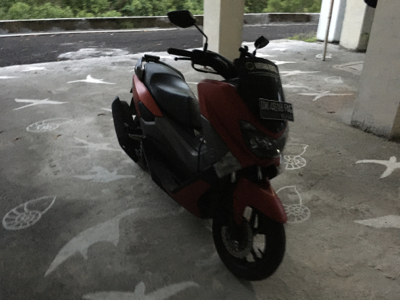moto: (109, 40, 297, 288)
